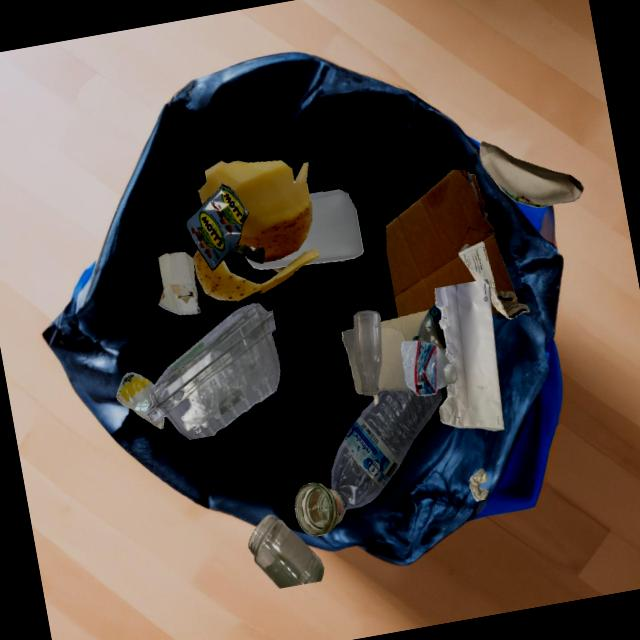biowaste: (198, 160, 308, 247), (193, 248, 261, 301)
cardboard: (385, 169, 518, 317), (158, 251, 201, 314), (373, 351, 413, 405), (380, 309, 429, 344)
glass: (248, 514, 324, 588), (294, 482, 344, 535), (353, 309, 381, 395), (116, 372, 154, 423), (271, 266, 286, 272)
paper: (434, 279, 504, 431), (479, 141, 583, 207), (458, 241, 529, 319), (469, 468, 488, 501)
plastic: (145, 303, 280, 440), (331, 388, 442, 514), (245, 189, 363, 269), (401, 340, 457, 395), (412, 304, 446, 349), (314, 582, 315, 582)
trash: (185, 183, 264, 270)
